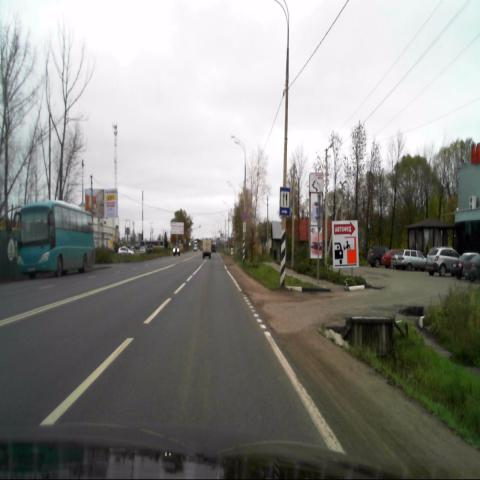7_7: (279, 187, 289, 215)
